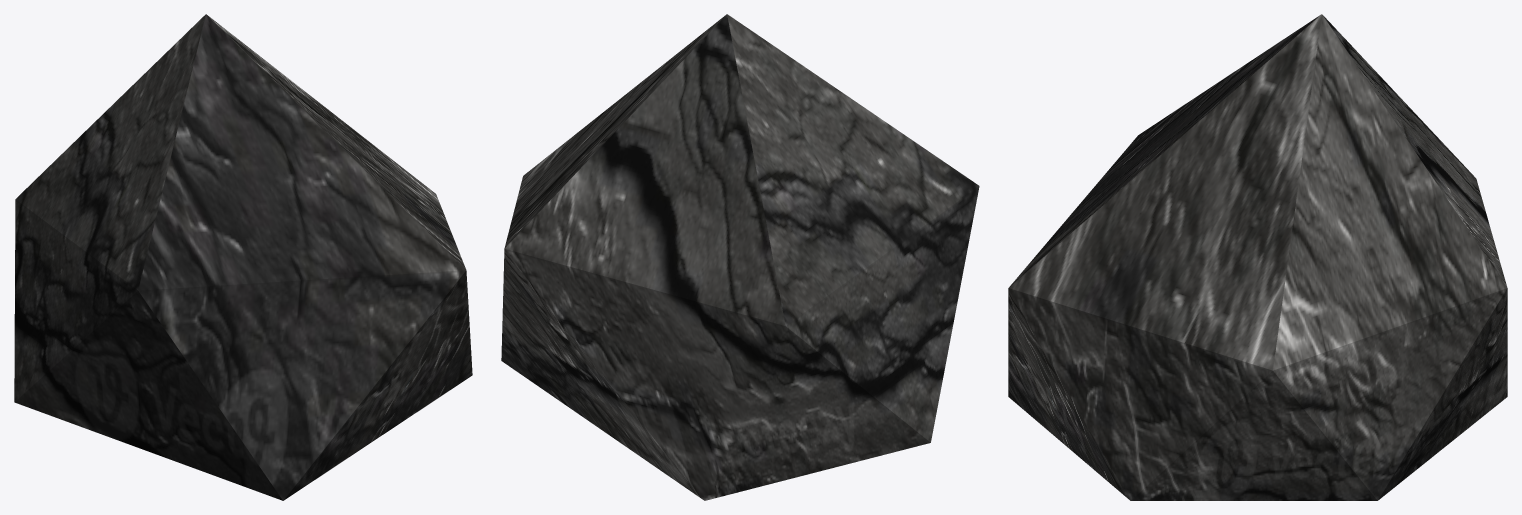
The model's file is mediumrock.fbx.
3 renders of one model, left to right at view 1: azimuth 30°, elevation 25°; view 2: azimuth 150°, elevation 25°; view 3: azimuth 270°, elevation 25°, orthographic. The views are drawn at different scales.
Visible parts, largest first — view 1: Icosphere.001; view 2: Icosphere.001; view 3: Icosphere.001.
Part boxes in pixels (bbox=[...]): Icosphere.001: bbox=[14, 14, 472, 500]; Icosphere.001: bbox=[501, 14, 979, 500]; Icosphere.001: bbox=[1008, 14, 1507, 500].
Size of the model in its own units: 81.04 by 76.73 by 78.22.
1 material, 1 textured.
